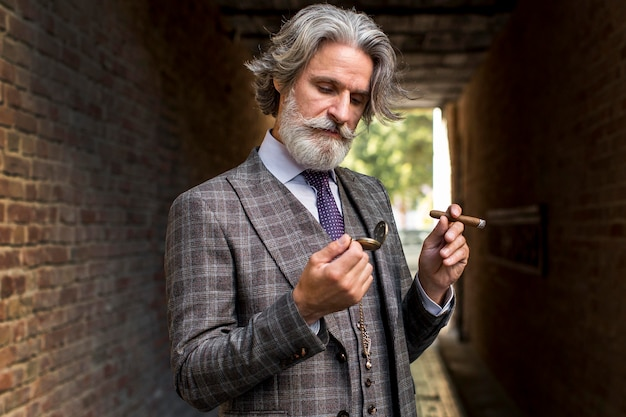cigarette: (429, 206, 488, 228)
